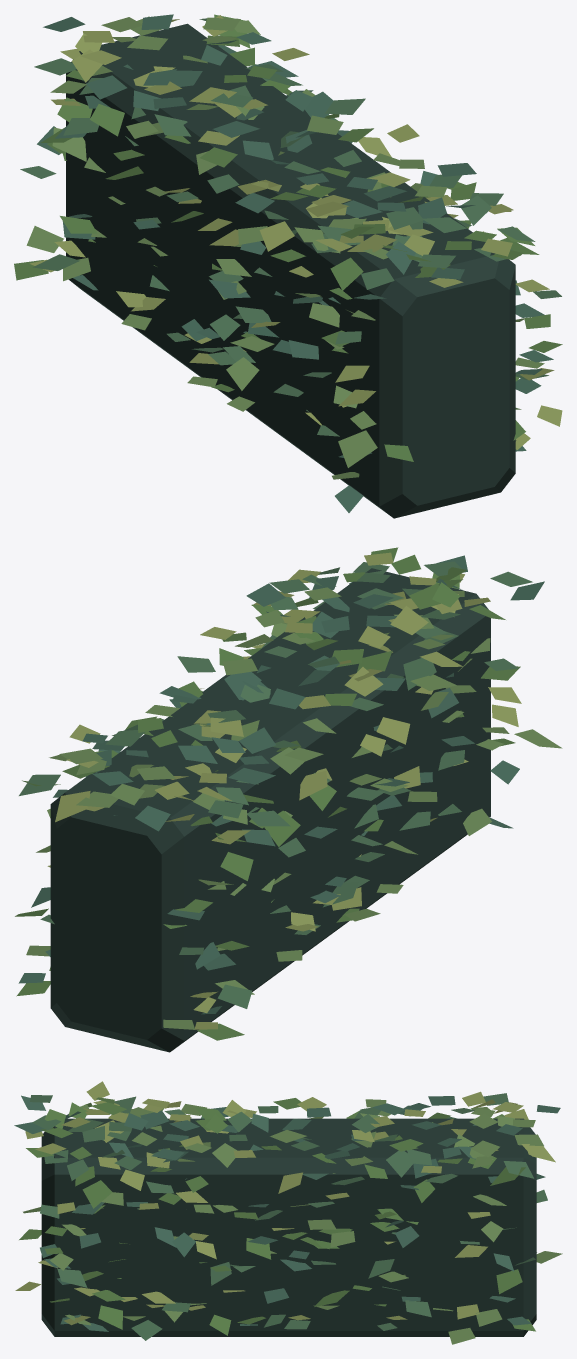
File: ART_StreetHedge.glb
The picture shows the model from 3 angles, top to bottom: view 1: azimuth 30°, elevation 25°; view 2: azimuth 150°, elevation 25°; view 3: azimuth 270°, elevation 25°; orthographic projection. The views are drawn at different scales.
Visible parts, largest first — view 1: ART_StreetHedge; view 2: ART_StreetHedge; view 3: ART_StreetHedge.
Part boxes in pixels (<box>): ART_StreetHedge: <box>14,14,562,518</box>; ART_StreetHedge: <box>15,547,562,1052</box>; ART_StreetHedge: <box>14,1081,562,1344</box>.
Bounding box in the file's own units: 1.36 × 1.4 × 3.44.
